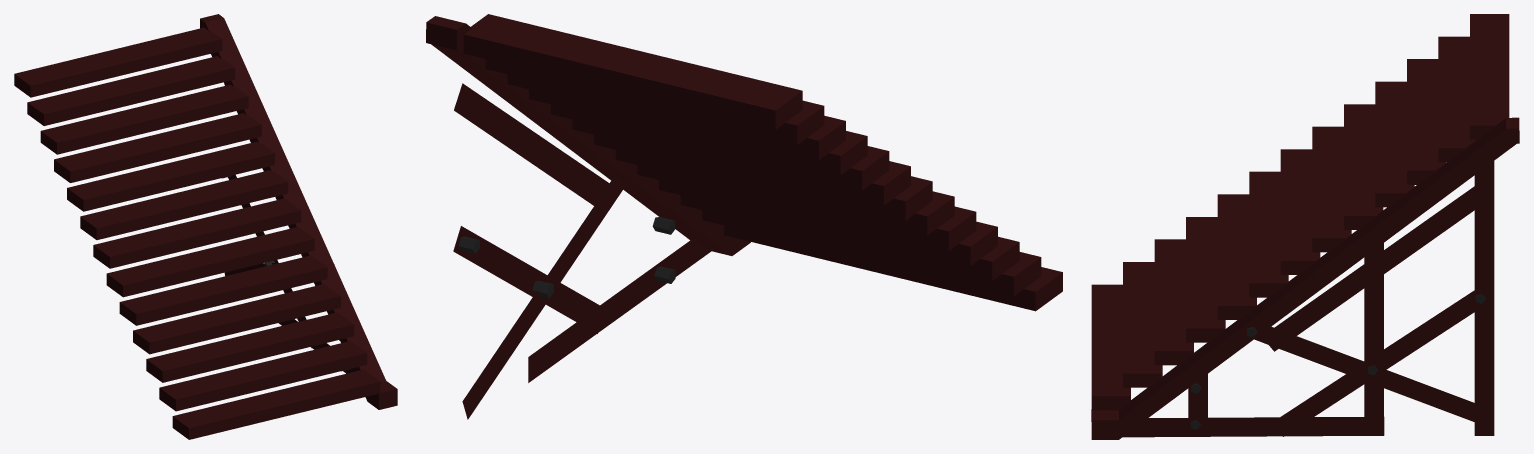
The model's file is BridgeSupported_mesh.fbx.
3 renders of one model, left to right at view 1: azimuth 30°, elevation 25°; view 2: azimuth 150°, elevation 25°; view 3: azimuth 270°, elevation 25°, orthographic. The views are drawn at different scales.
Parts seen in each view (by area): view 1: Cube.001; view 2: Cube.001; view 3: Cube.001.
Boxes of the visible parts, x1=… form: Cube.001: x1=14, y1=14, x2=397, y2=439; Cube.001: x1=426, y1=14, x2=1062, y2=419; Cube.001: x1=1091, y1=14, x2=1519, y2=439.
Bounding box in the file's own units: 533 × 631 × 785.
